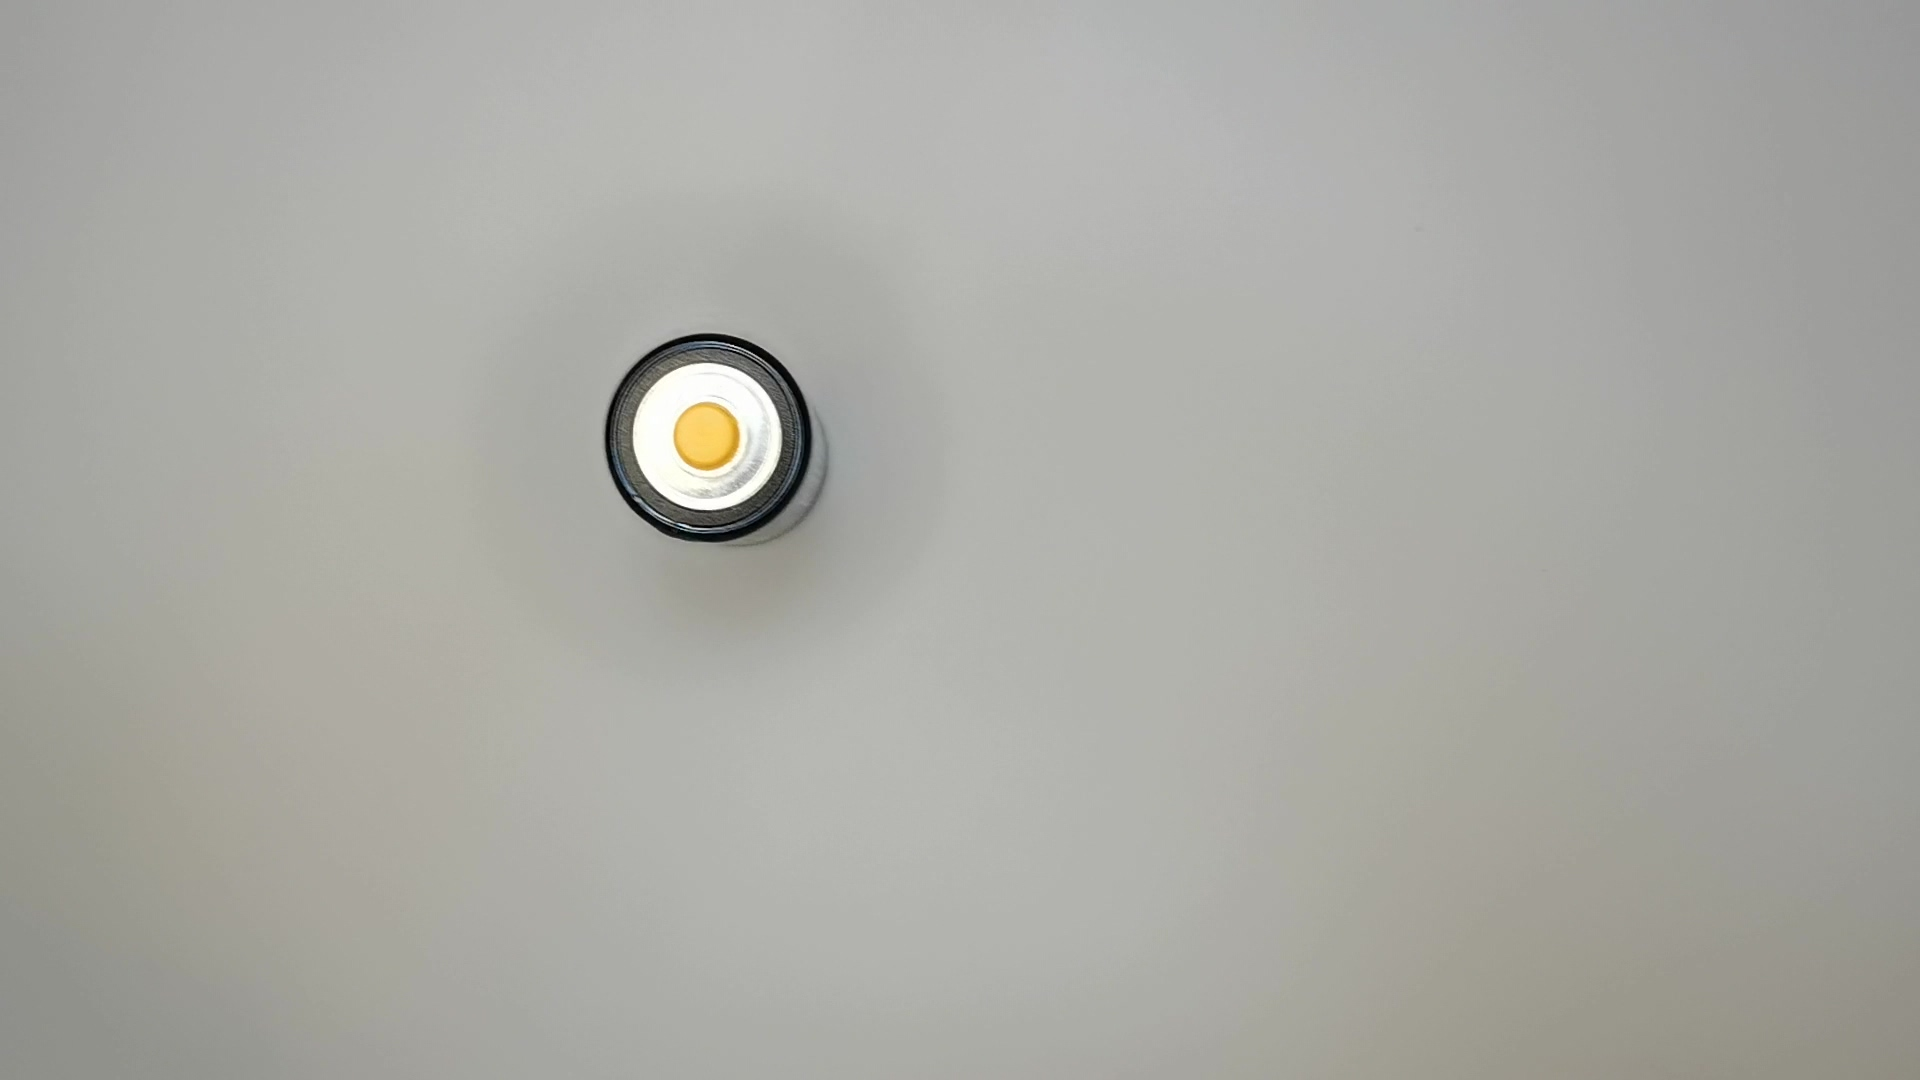battery: (597, 330, 836, 560)
